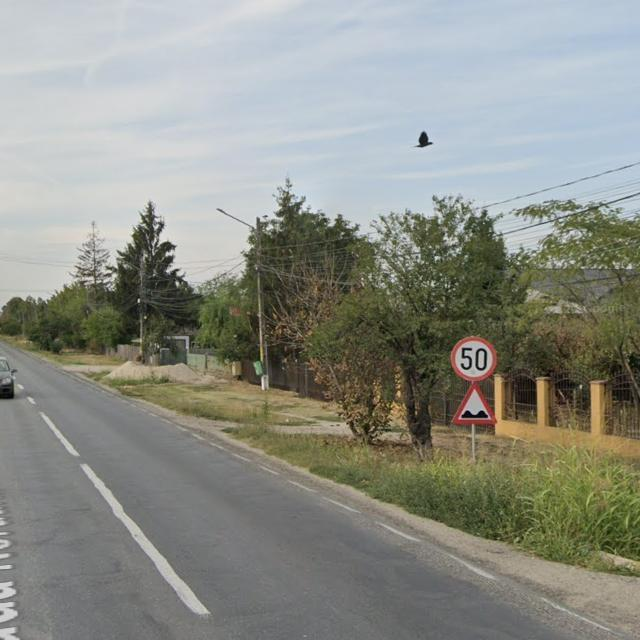forb_speed_over_50: (451, 336, 497, 382)
